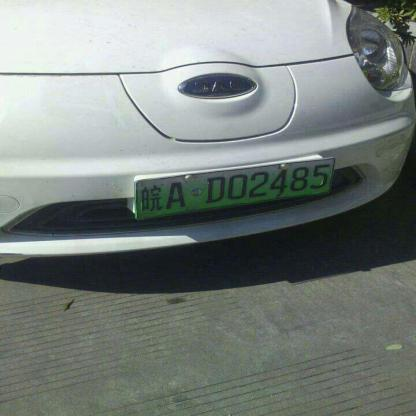lp: (138, 156, 340, 220)
